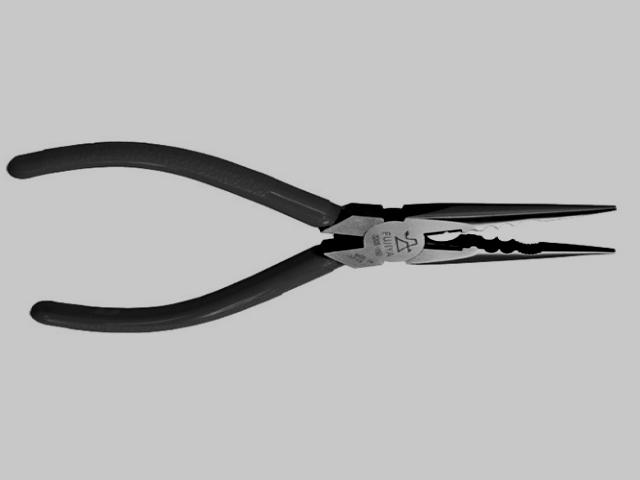Needle-nose pliers: (8, 144, 615, 332)
